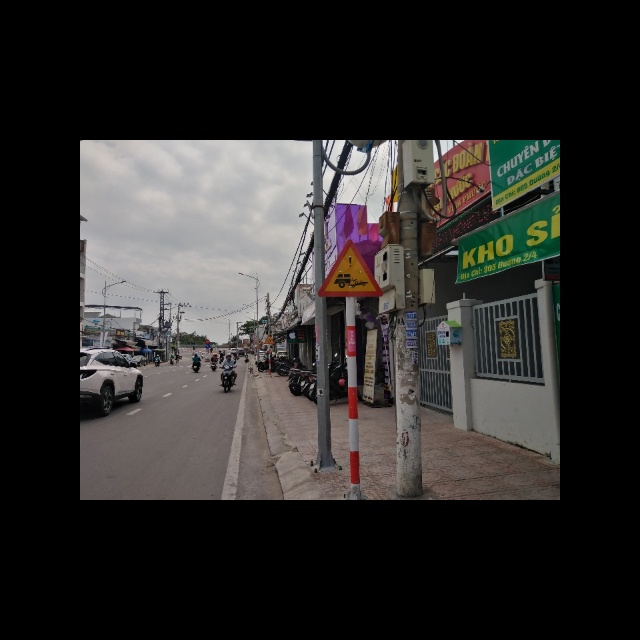Đoạn đường hay xảy ra tai nạn: (316, 239, 381, 297)
